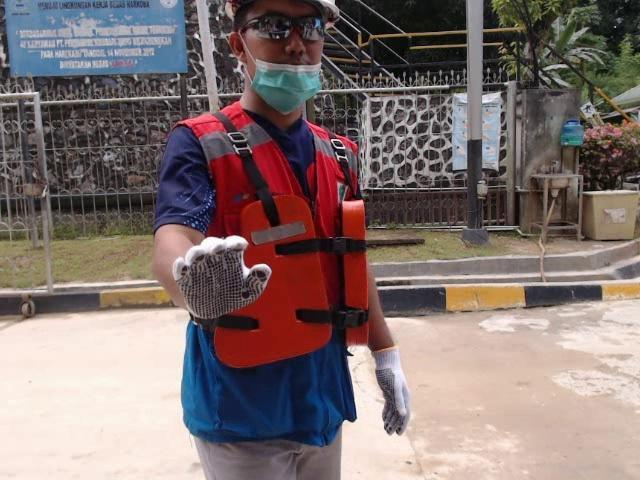vest: (219, 206, 375, 361)
